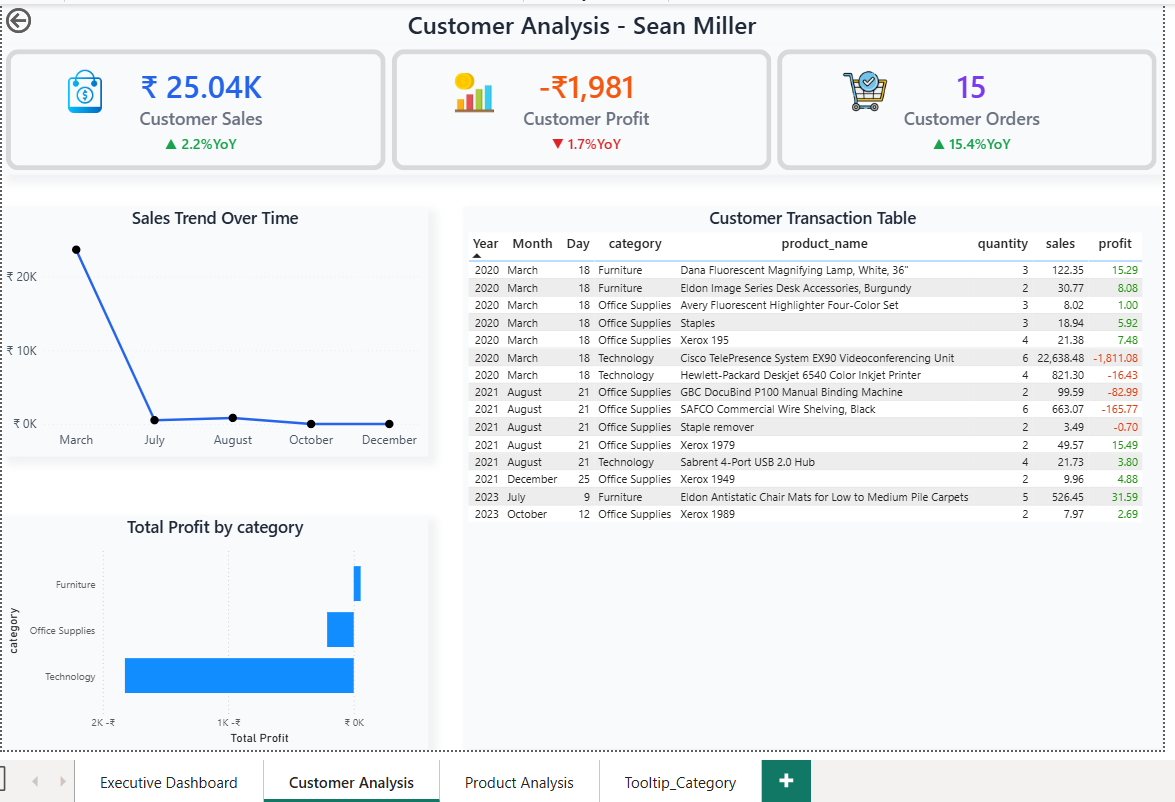

Layout of this report page (visuals, bound fields, positions):
{"tool":"powerbi","page":{"name":"Customer Analysis","canvas":[1400,900],"ordinal":1},"visuals":[{"type":"card","fields":{"Values":["All Measures.Customer Page Title"]},"box":[0,0,1399.7,50.5],"z":0},{"type":"actionButton","box":[0,0,100,40],"z":1000},{"type":"actionButton","box":[0,0,100,40],"z":2000},{"type":"lineChart","title":"Sales Trend Over Time","fields":{"Category":["dim_date.order_date.Variation.Date Hierarchy.Year","dim_date.order_date.Variation.Date Hierarchy.Quarter","dim_date.order_date.Variation.Date Hierarchy.Month","dim_date.order_date.Variation.Date Hierarchy.Day"],"Y":["fact_sales.Total Sales"]},"box":[0,244.3,514.2,301.6],"z":3000},{"type":"clusteredBarChart","fields":{"Category":["dim_product.category"],"Y":["All Measures.Total Profit"]},"box":[0,616.8,514.2,282],"z":4000},{"type":"tableEx","title":"Customer Transaction Table","fields":{"Values":["dim_date.order_date.Variation.Date Hierarchy.Year","dim_date.order_date.Variation.Date Hierarchy.Month","dim_date.order_date.Variation.Date Hierarchy.Day","dim_product.category","dim_product.product_name","fact_sales.quantity","fact_sales.sales","fact_sales.profit"]},"box":[556.5,244.3,843,654.5],"z":5000},{"type":"cardVisual","fields":{"Data":["fact_sales.Total Sales","All Measures.Profit Display","All Measures.Total Orders"]},"box":[0,49.8,1399.5,156],"z":6000},{"type":"image","box":[63.9,71.2,73.6,68.8],"z":7000},{"type":"image","box":[527.1,77.3,86.8,60],"z":8000},{"type":"image","box":[997.3,74.2,88.4,63.1],"z":9000}]}

Visuals, with their boxes on the page's 1400x900 design canvas (x1, y1, x2, y2). These are canvas units, not pixel positions in the 1175x802 screenshot, which may show the page scaled, cropped or inside an application window:
card - All Measures.Customer Page Title: box=[0, 0, 1400, 50]
actionButton: box=[0, 0, 100, 40]
actionButton: box=[0, 0, 100, 40]
"Sales Trend Over Time" lineChart: box=[0, 244, 514, 546]
clusteredBarChart - dim_product.category x All Measures.Total Profit: box=[0, 617, 514, 899]
"Customer Transaction Table" tableEx: box=[556, 244, 1400, 899]
cardVisual - fact_sales.Total Sales x All Measures.Profit Display: box=[0, 50, 1400, 206]
image: box=[64, 71, 138, 140]
image: box=[527, 77, 614, 137]
image: box=[997, 74, 1086, 137]
